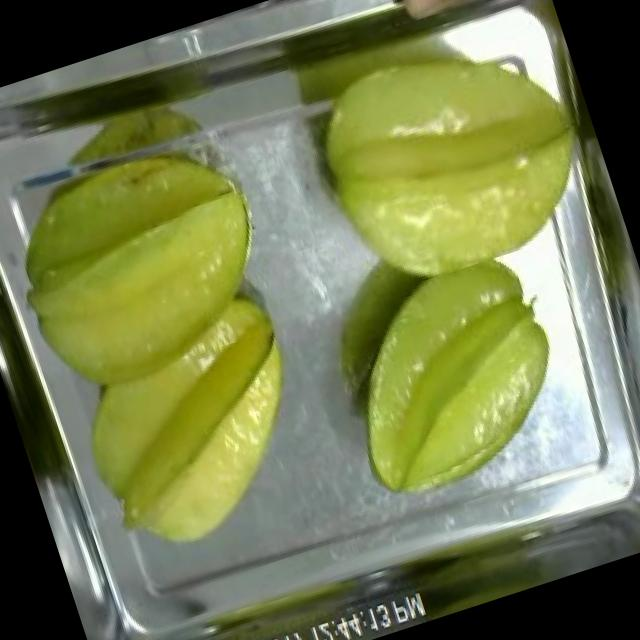fruit: (273, 0, 630, 329), (32, 242, 342, 578), (0, 105, 298, 404), (303, 228, 597, 526), (377, 0, 555, 55)
